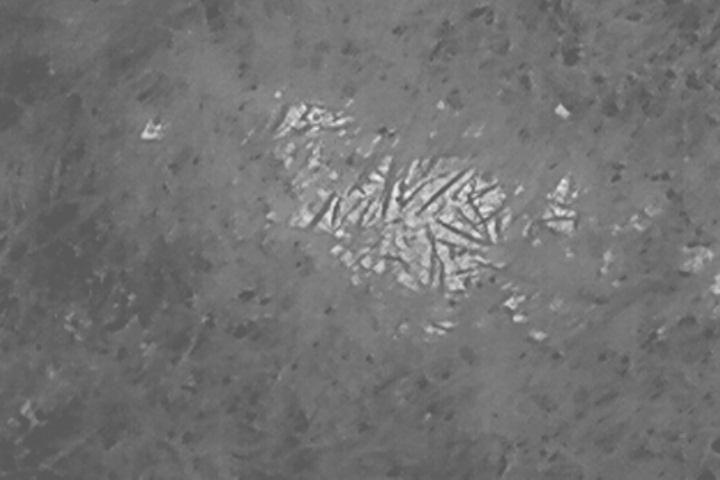landmine: (276, 104, 513, 295)
